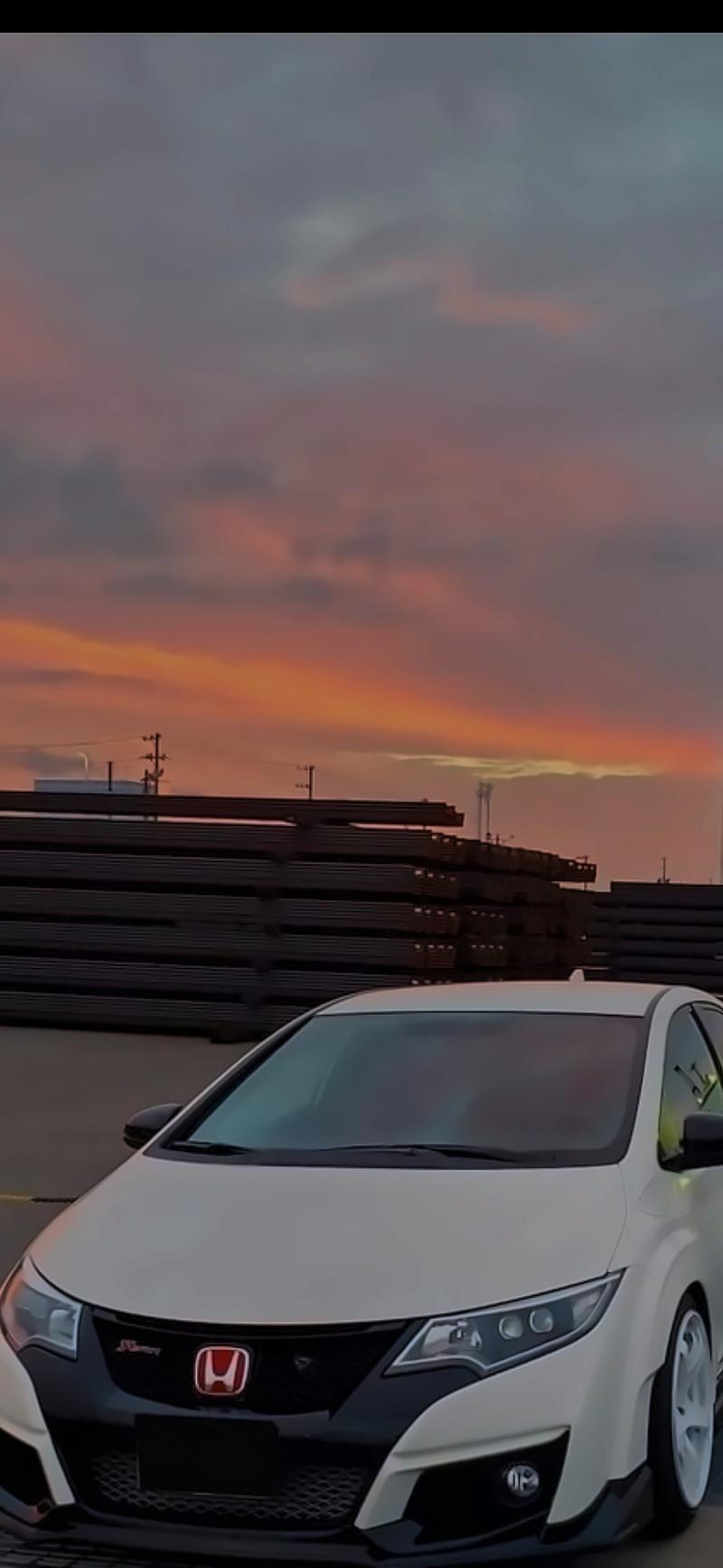Car hood: (18, 1153, 629, 1332)
Front bumper: (0, 1328, 678, 1568)
Headlight - -L-: (373, 1262, 630, 1382)
Headlight - -R-: (0, 1246, 93, 1368)
Side mirror - -L-: (659, 1104, 723, 1178)
Side mirror - -R-: (115, 1094, 193, 1157)
